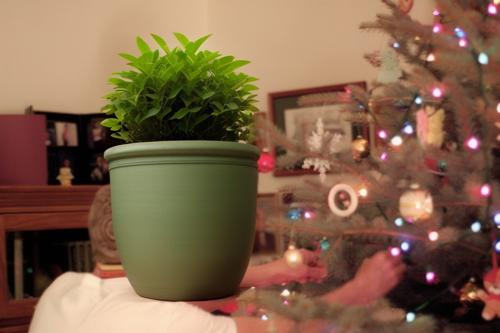person: (29, 170, 414, 333)
person/hand: (355, 250, 408, 292), (280, 247, 333, 285)
person/head: (89, 172, 198, 294)
pottedplant: (100, 33, 259, 301)
